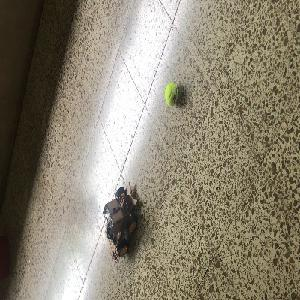Ball: (164, 82, 178, 105)
Robot: (101, 186, 139, 256)
